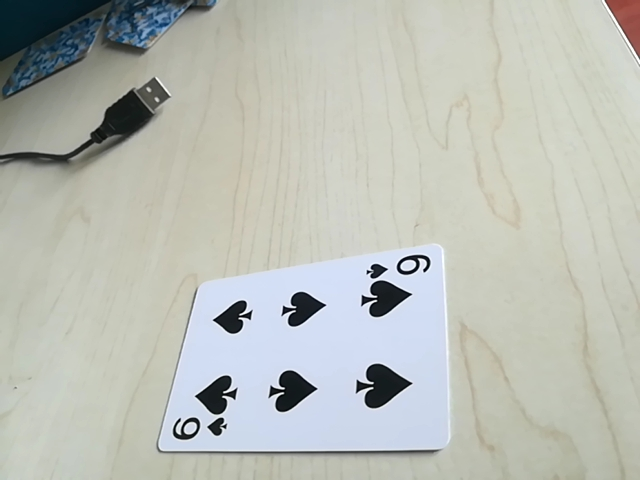ht 6: (364, 252, 435, 282), (163, 414, 229, 446)
